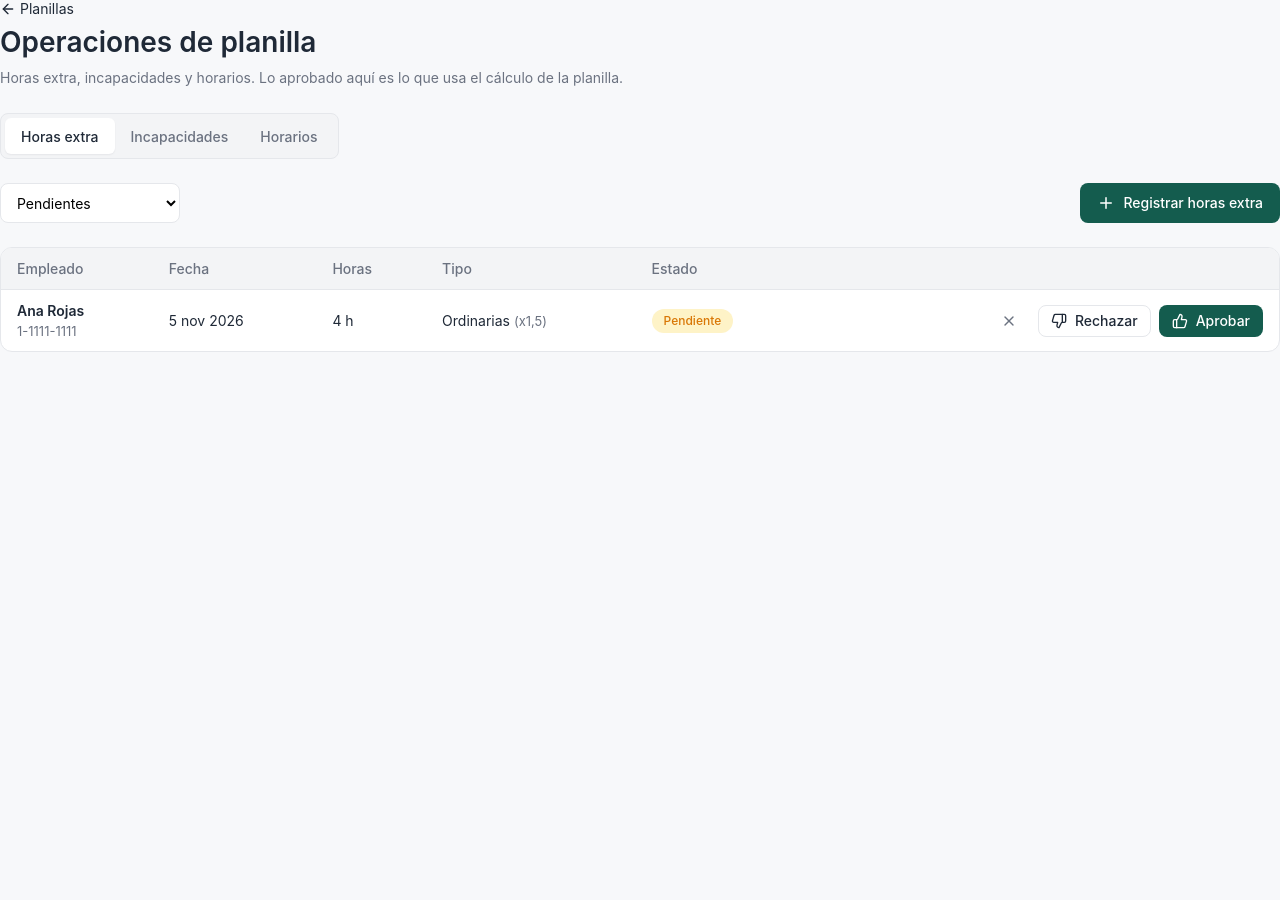
Test: PayrollOperationsPage › highlights employees without a schedule and assigns one
The width and height of the screenshot is (1280, 900).
Click the tab "Horarios".
click(289, 136)  # box x1=244 y1=118 x2=334 y2=154
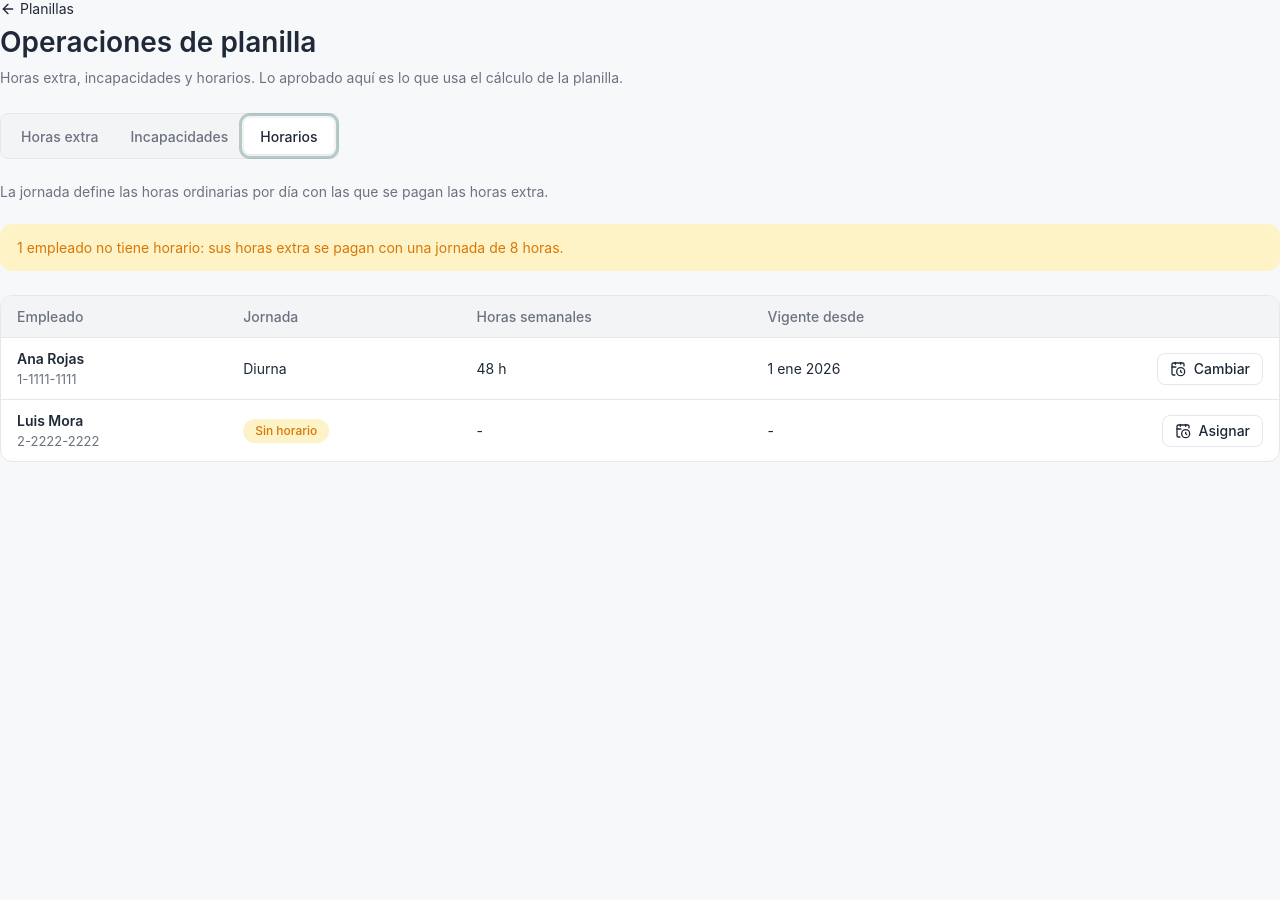
Now the text "Sin horario" is shown, box x1=243 y1=419 x2=329 y2=443
Now the text "1 empleado no tiene horario" is shown, box x1=17 y1=239 x2=564 y2=256
Click the button with aria-label "asignar horario de luis mora".
click(1212, 431)  # box x1=1162 y1=415 x2=1263 y2=447
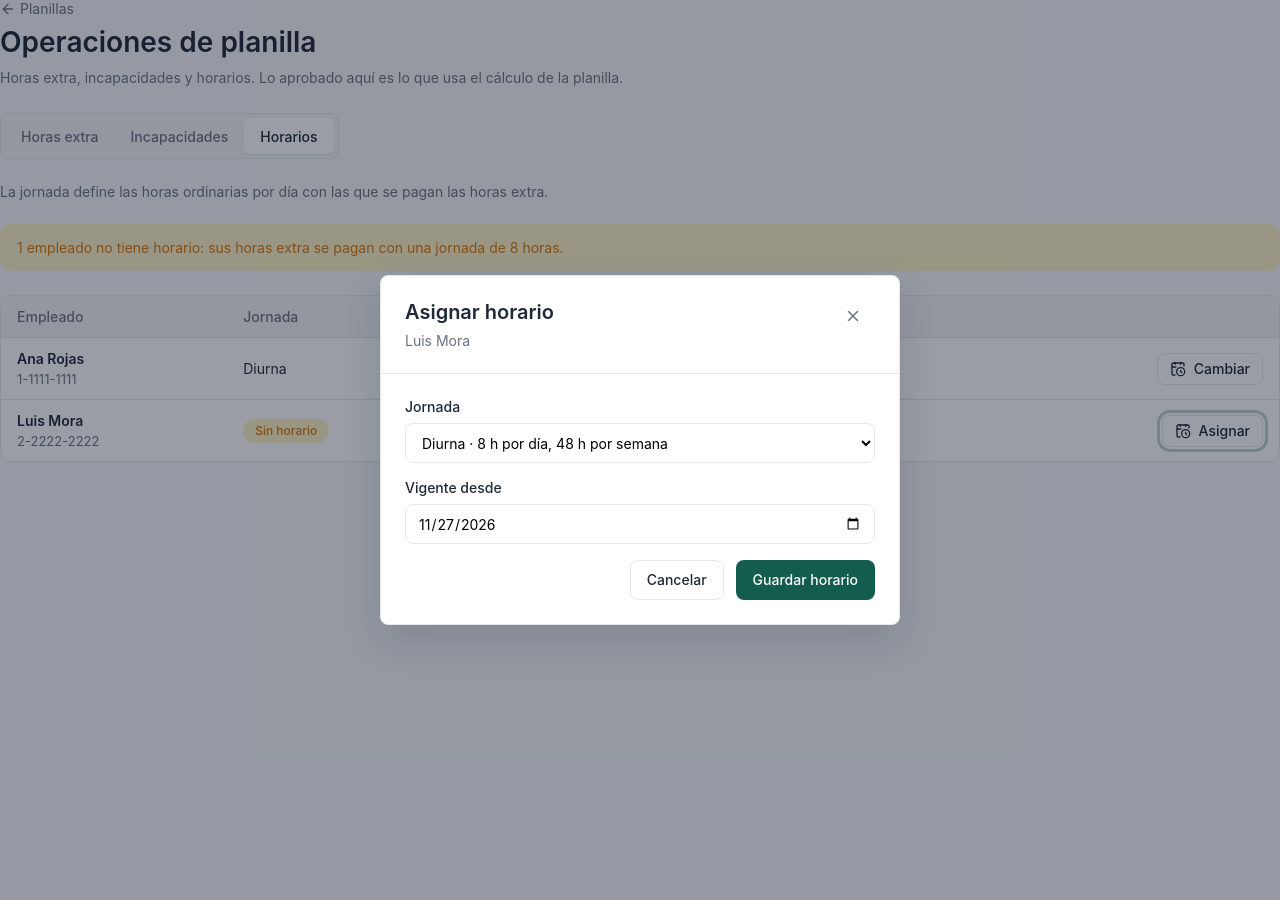
Select "Nocturna · 6 h por día, 36 h por semana" in the dropdown labelled "Jornada" at coordinates (640, 443), box x1=405 y1=423 x2=875 y2=463
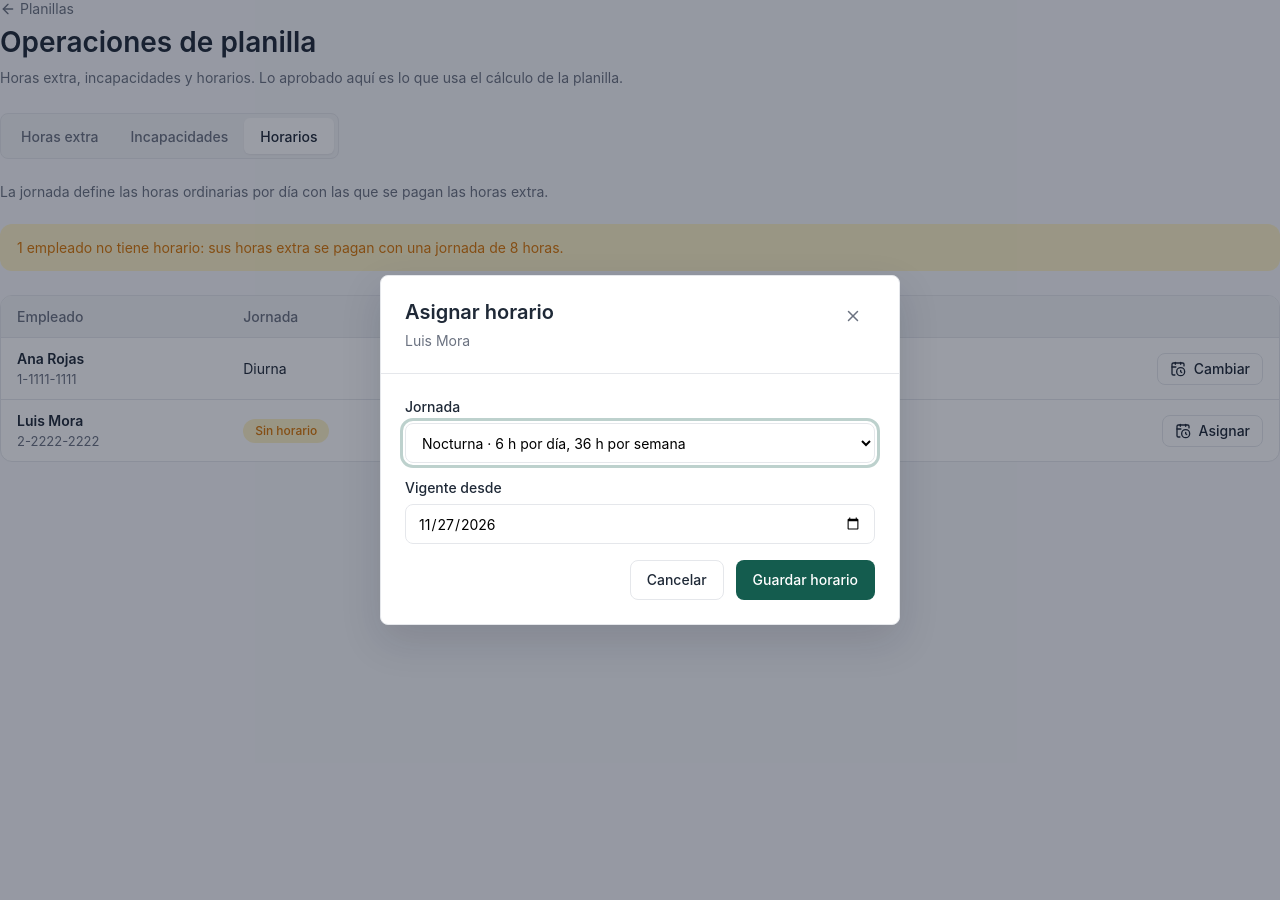
Click the button "Guardar horario".
click(805, 580)  # box x1=736 y1=560 x2=875 y2=600
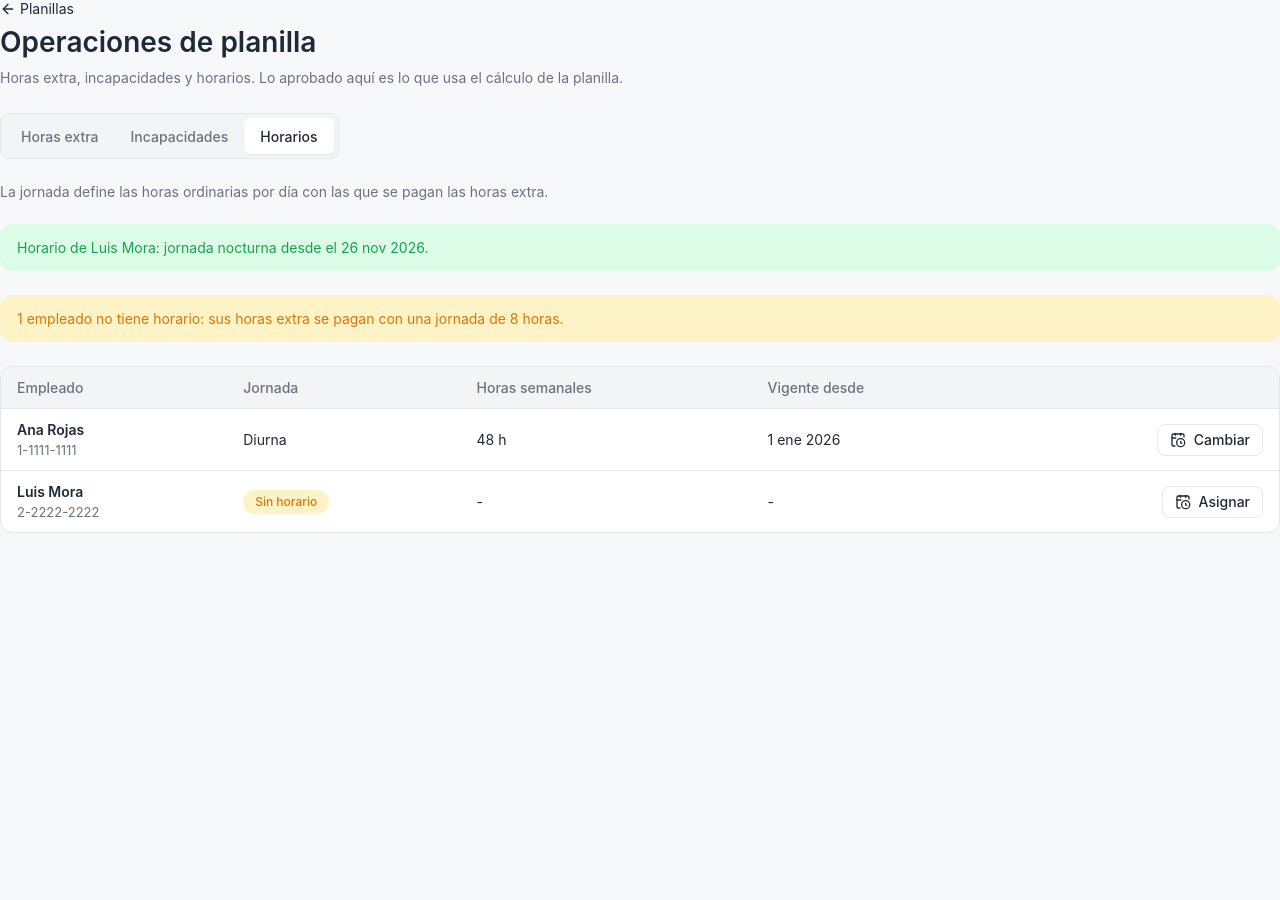
Now the text "Horario de Luis Mora: jornada nocturna desde el 26 nov 2026." is shown, box x1=0 y1=224 x2=1279 y2=271
